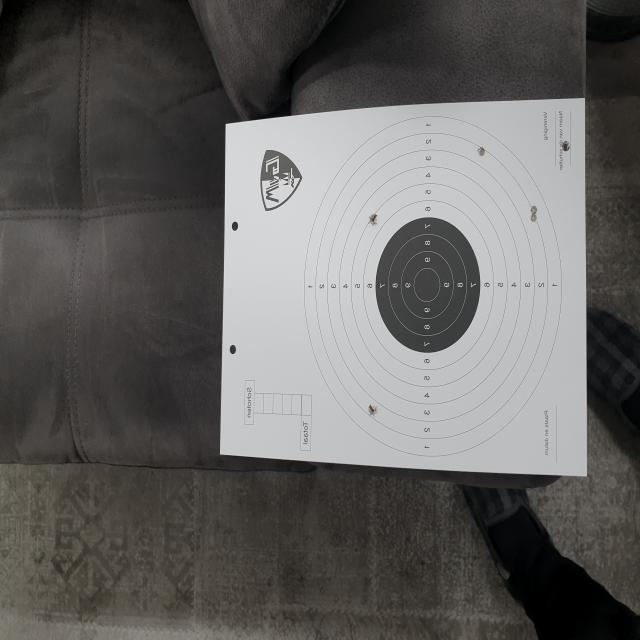0: (562, 141, 570, 152)
2: (477, 146, 485, 156), (529, 214, 537, 223), (529, 206, 538, 213)
3: (368, 404, 377, 418)
5: (369, 214, 377, 226)
Target: (304, 114, 562, 458)
black_contour: (375, 218, 480, 353)
